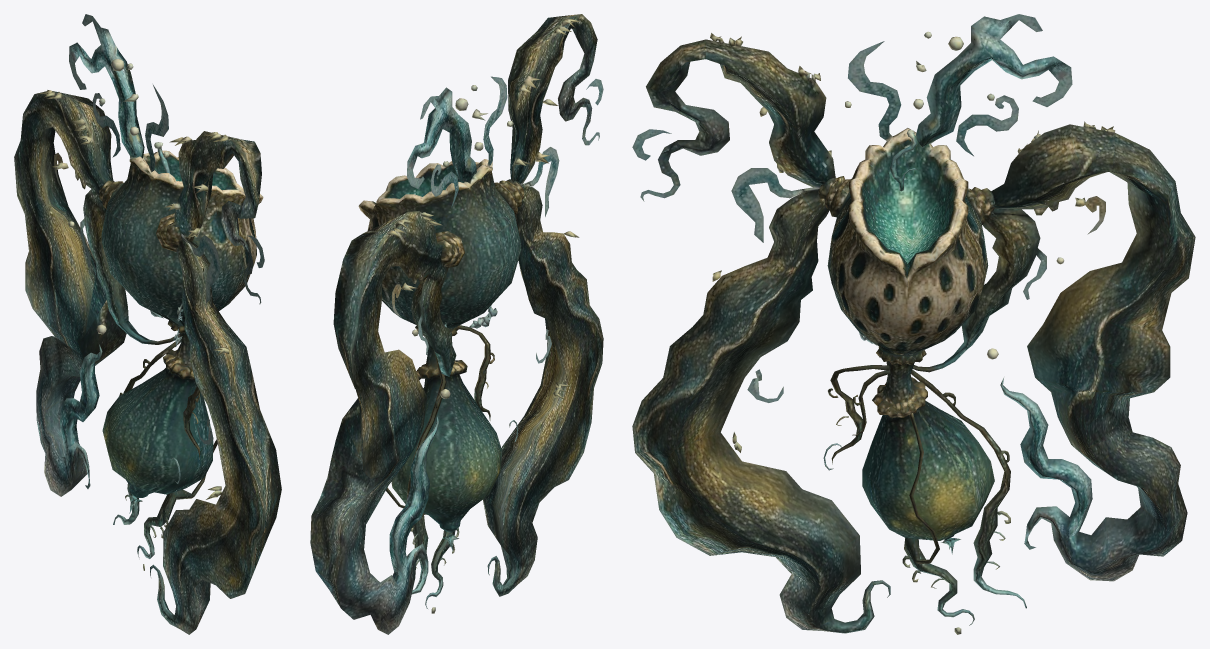
The model's file is hadal-kelp-censer-echo.glb.
3 views of the same model, side by side, from view 1: azimuth 30°, elevation 25°; view 2: azimuth 150°, elevation 25°; view 3: azimuth 270°, elevation 25° (orthographic). The views are drawn at different scales.
Parts seen in each view (by area): view 1: tripo_node_b80e31df-582b-40b5-807c-6ecf0bf05fef; view 2: tripo_node_b80e31df-582b-40b5-807c-6ecf0bf05fef; view 3: tripo_node_b80e31df-582b-40b5-807c-6ecf0bf05fef.
Boxes of the visible parts, bbox=[...] form: tripo_node_b80e31df-582b-40b5-807c-6ecf0bf05fef: bbox=[14, 14, 281, 634]; tripo_node_b80e31df-582b-40b5-807c-6ecf0bf05fef: bbox=[310, 14, 603, 634]; tripo_node_b80e31df-582b-40b5-807c-6ecf0bf05fef: bbox=[632, 14, 1195, 634].
Size of the model in its own units: 0.2676 by 0.998 by 0.8223.
1 material, 1 textured.
